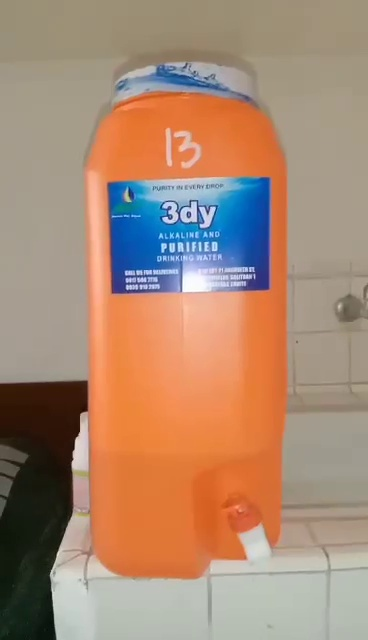gallon: (85, 57, 289, 575)
